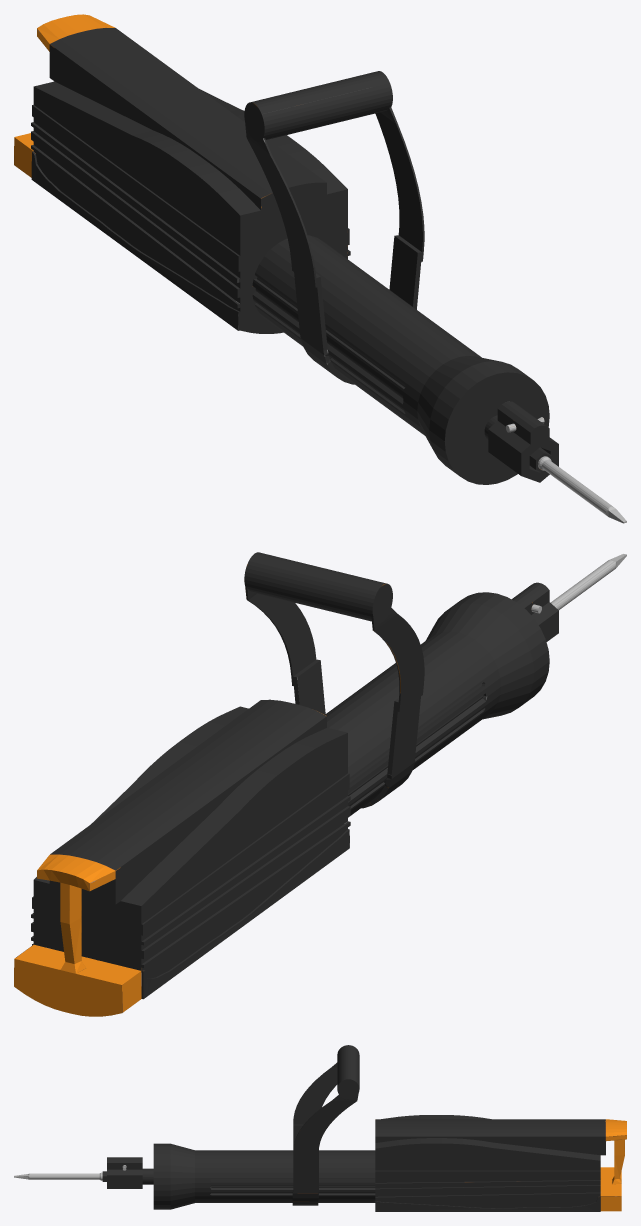
The model's file is drill.obj.
3 views of the same model, one above another, from view 1: azimuth 30°, elevation 25°; view 2: azimuth 150°, elevation 25°; view 3: azimuth 270°, elevation 25° (orthographic). The views are drawn at different scales.
Visible parts, largest first — view 1: Cube; view 2: Cube; view 3: Cube.
Part boxes in pixels (x1,y1,x2,y2): Cube: (14, 14, 626, 523); Cube: (14, 552, 626, 1016); Cube: (14, 1045, 626, 1211).
Bounding box in the file's own units: 0.7646 × 1.51 × 5.8.
